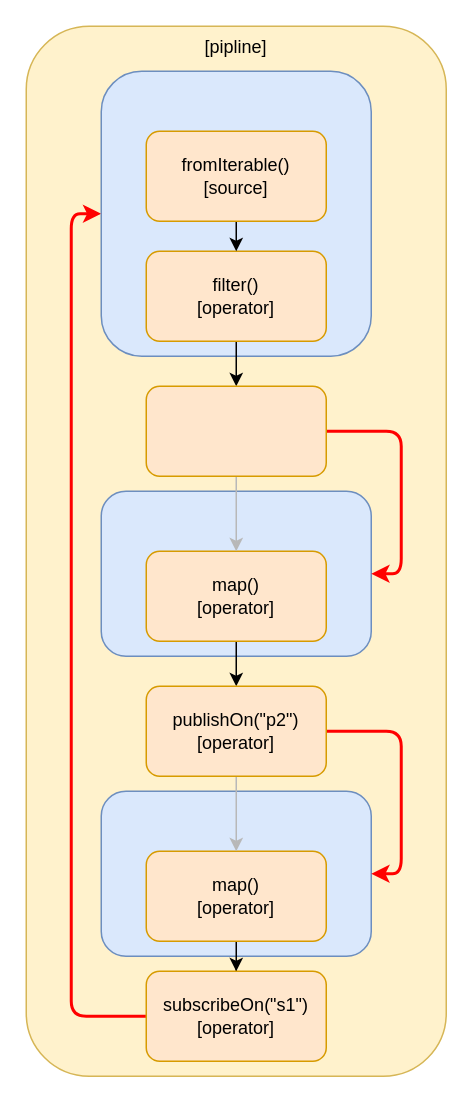
Image size: 473x1103. Some labels were removed from this diagram. The shapes that lost their labels are listed below. From the top down, each one's box as (x1, y1, x2, y2) in pixels, then its label:
(100, 70, 371, 356): s1 [executor]
(145, 385, 326, 476): publishOn("p1") [operator]
(100, 490, 371, 656): p1 [executor]
(100, 790, 371, 956): p2 [executor]
